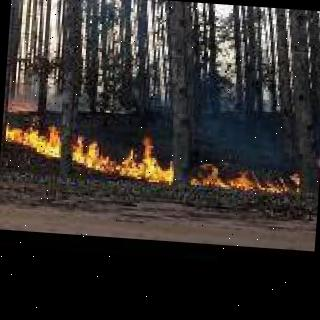fire: (0, 77, 310, 198)
